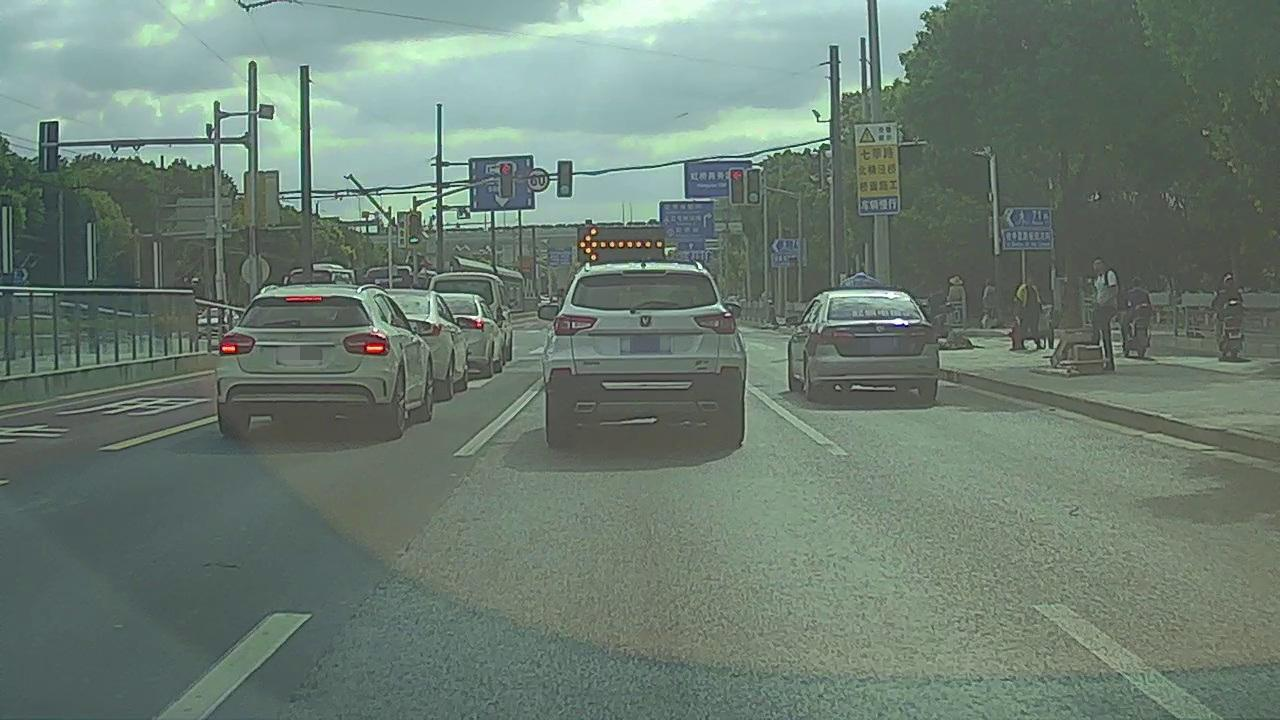traffic_light: (557, 161, 572, 197), (730, 169, 744, 204), (748, 170, 760, 205), (500, 163, 512, 197)
